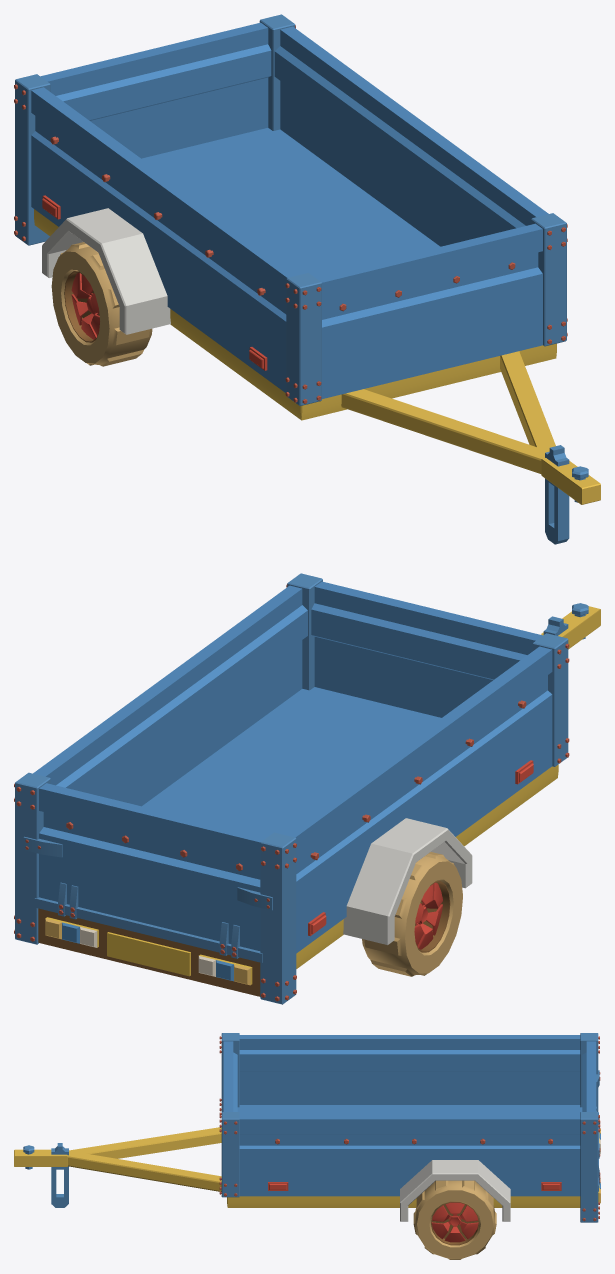
Rendered from car.gltf.
The picture shows the model from 3 angles, top to bottom: view 1: azimuth 30°, elevation 25°; view 2: azimuth 150°, elevation 25°; view 3: azimuth 270°, elevation 25°; orthographic projection. The views are drawn at different scales.
Visible parts, largest first — view 1: body, wheel_2, wheel_0; view 2: body, wheel_2, wheel_0; view 3: body, wheel_7, wheel_5.
Boxes of the visible parts, bbox=[...] form: body: bbox=[14, 14, 600, 544]; wheel_2: bbox=[51, 251, 109, 363]; wheel_0: bbox=[58, 245, 152, 366]; body: bbox=[14, 573, 600, 1004]; wheel_2: bbox=[405, 861, 462, 973]; wheel_0: bbox=[362, 855, 455, 976]; body: bbox=[14, 1033, 600, 1245]; wheel_7: bbox=[417, 1190, 493, 1258]; wheel_5: bbox=[413, 1180, 496, 1259].
Bounding box in the file's own units: 2.91 × 1.55 × 6.35.
1 material, 1 textured.
